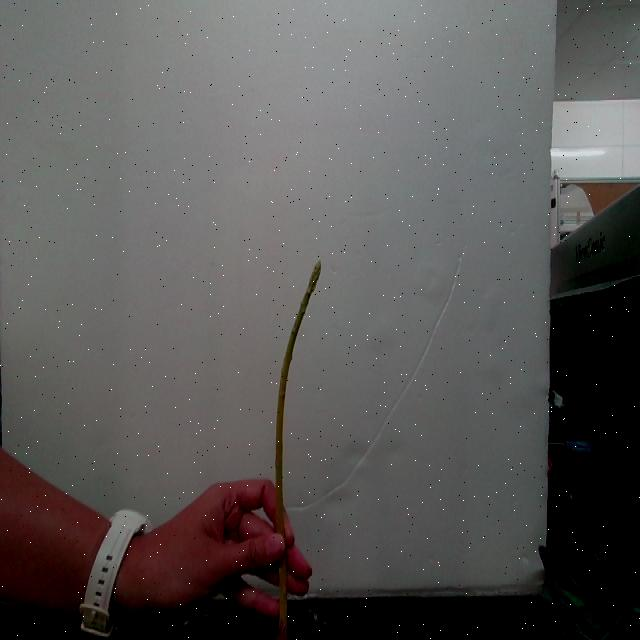aspargus: (274, 265, 323, 538)
